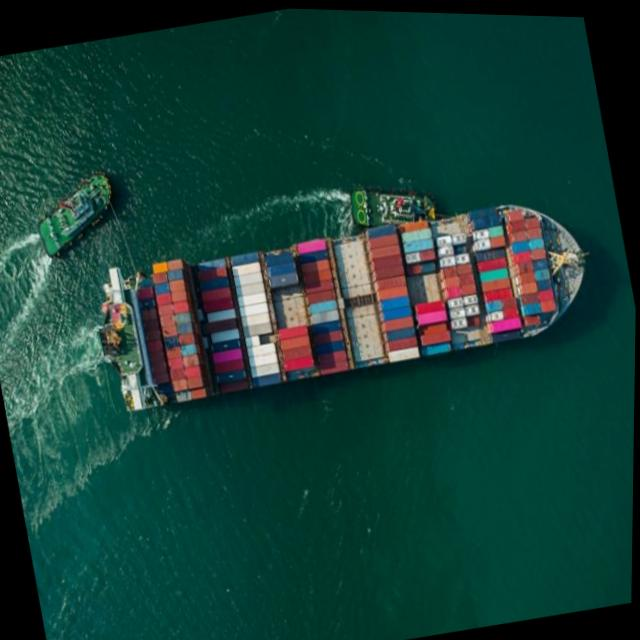ship2: (100, 201, 592, 413), (37, 169, 113, 260), (351, 189, 439, 227)
